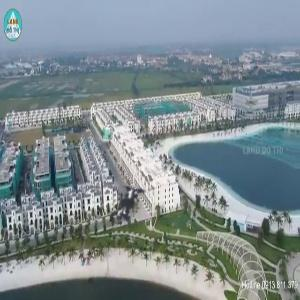drone: (82, 155, 183, 256)
